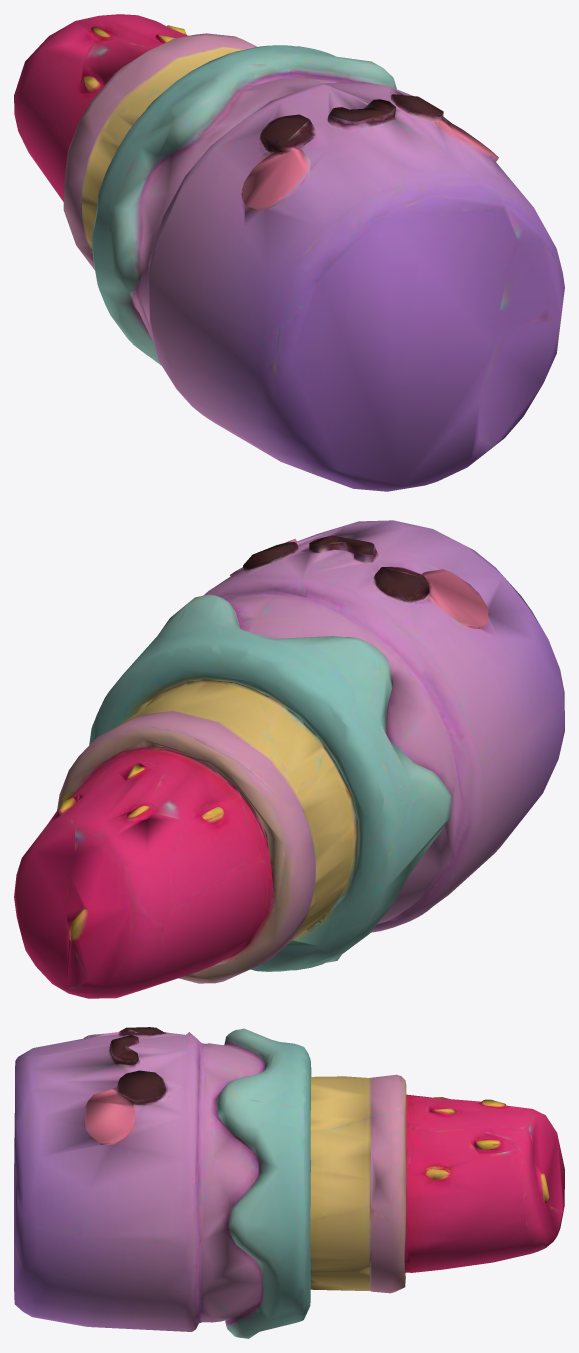
The picture shows the model from 3 angles, top to bottom: view 1: azimuth 30°, elevation 25°; view 2: azimuth 150°, elevation 25°; view 3: azimuth 270°, elevation 25°; orthographic projection. The views are drawn at different scales.
Visible parts, largest first — view 1: material; view 2: material; view 3: material.
Part boxes in pixels (x1=…): material: x1=14, y1=14, x2=564, y2=491; material: x1=14, y1=520, x2=564, y2=998; material: x1=14, y1=1027, x2=564, y2=1338.
Size of the model in its own units: 0.5539 by 0.554 by 1.
Materials: 1 (1 with a texture image).
